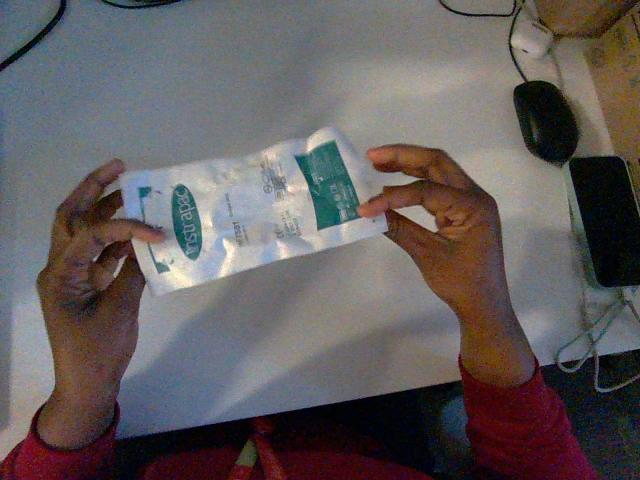gallipot: (120, 127, 386, 294)
